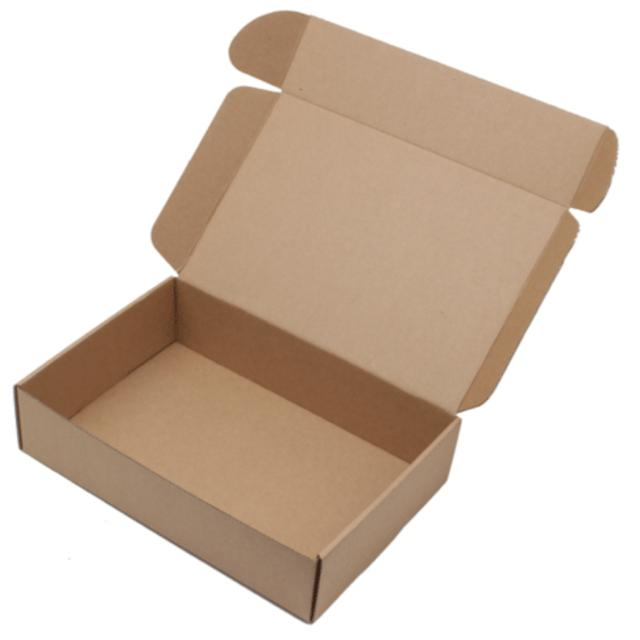biodegradable: (11, 2, 634, 631)
